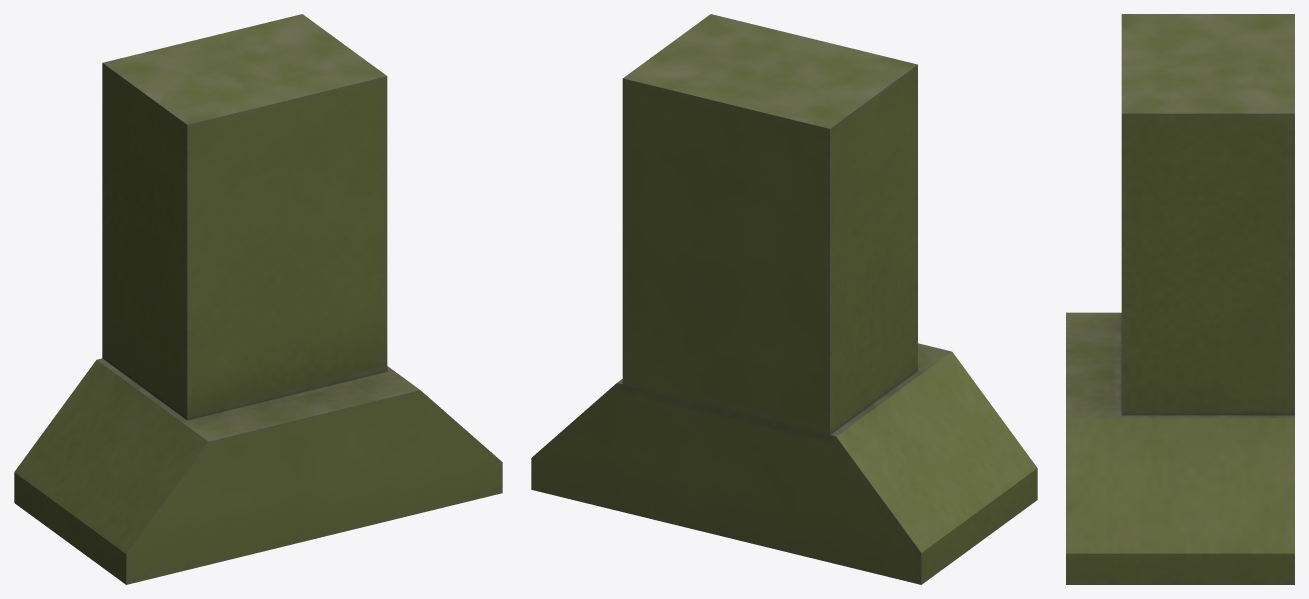
The model's file is H_RangeHood.fbx.
3 renders of one model, left to right at view 1: azimuth 30°, elevation 25°; view 2: azimuth 150°, elevation 25°; view 3: azimuth 270°, elevation 25°, orthographic. The views are drawn at different scales.
Parts seen in each view (by area): view 1: H_RangeHood; view 2: H_RangeHood; view 3: H_RangeHood.
Boxes of the visible parts, x1,y1,x2,y2 form: H_RangeHood: (14,14,502,584); H_RangeHood: (531,14,1037,584); H_RangeHood: (1066,14,1294,584).
Bounding box in the file's own units: 320 × 344 × 165.
1 material, 1 textured.
